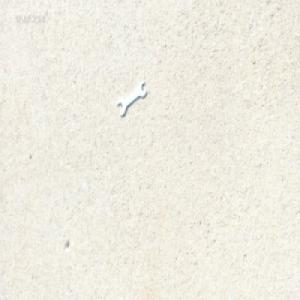Wrench: (116, 80, 147, 116)
